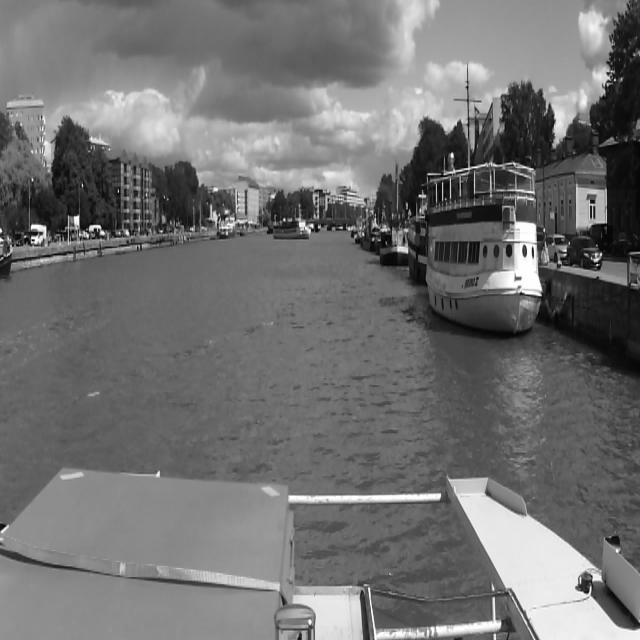ship: (427, 164, 541, 336), (408, 191, 428, 282), (381, 212, 406, 266), (273, 218, 311, 237), (362, 213, 380, 251), (217, 215, 236, 238), (240, 226, 248, 236)
